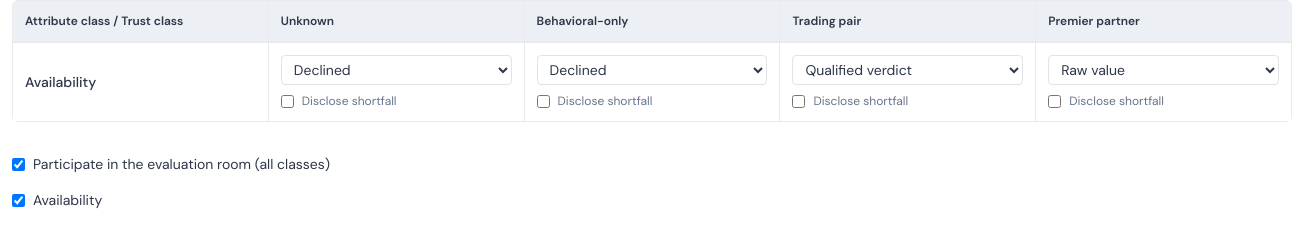
DisclosurePolicyClient › Item 13: applies the row the matrix PUT response returns, not the requested cell
The width and height of the screenshot is (1292, 226).
Select "Raw value" in the dropdown named "availability disclosure for trading_pair" at (908, 70), box 792,55 -> 1023,85
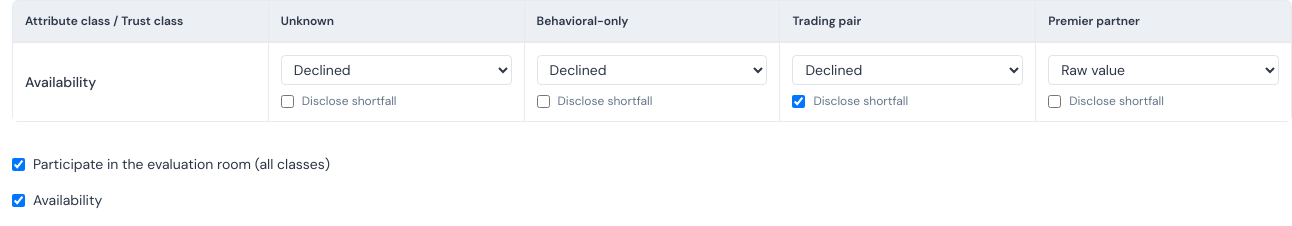
Result: the checkbox named "availability disclose shortfall quantity for trading_pair" is checked at 792,94 -> 805,108
